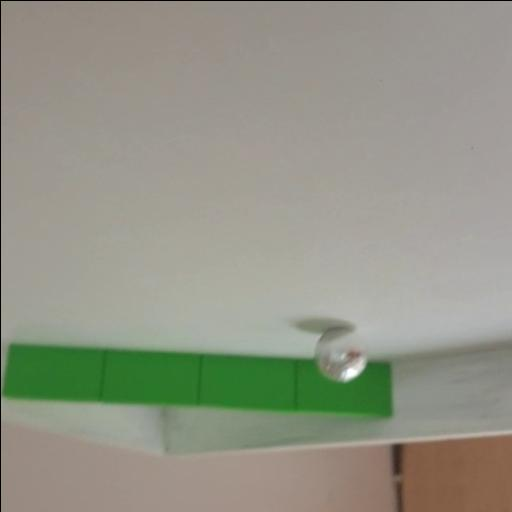alive: (314, 328, 366, 382)
